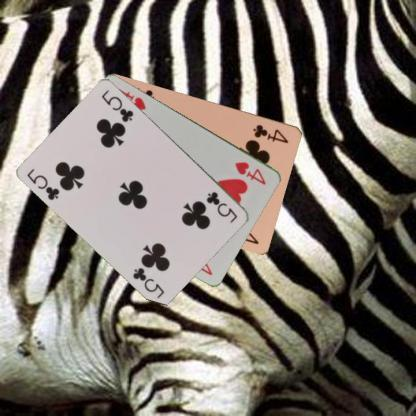4c: (250, 121, 290, 144)
4h: (232, 159, 268, 186)
5c: (24, 166, 62, 202), (204, 189, 239, 224)
